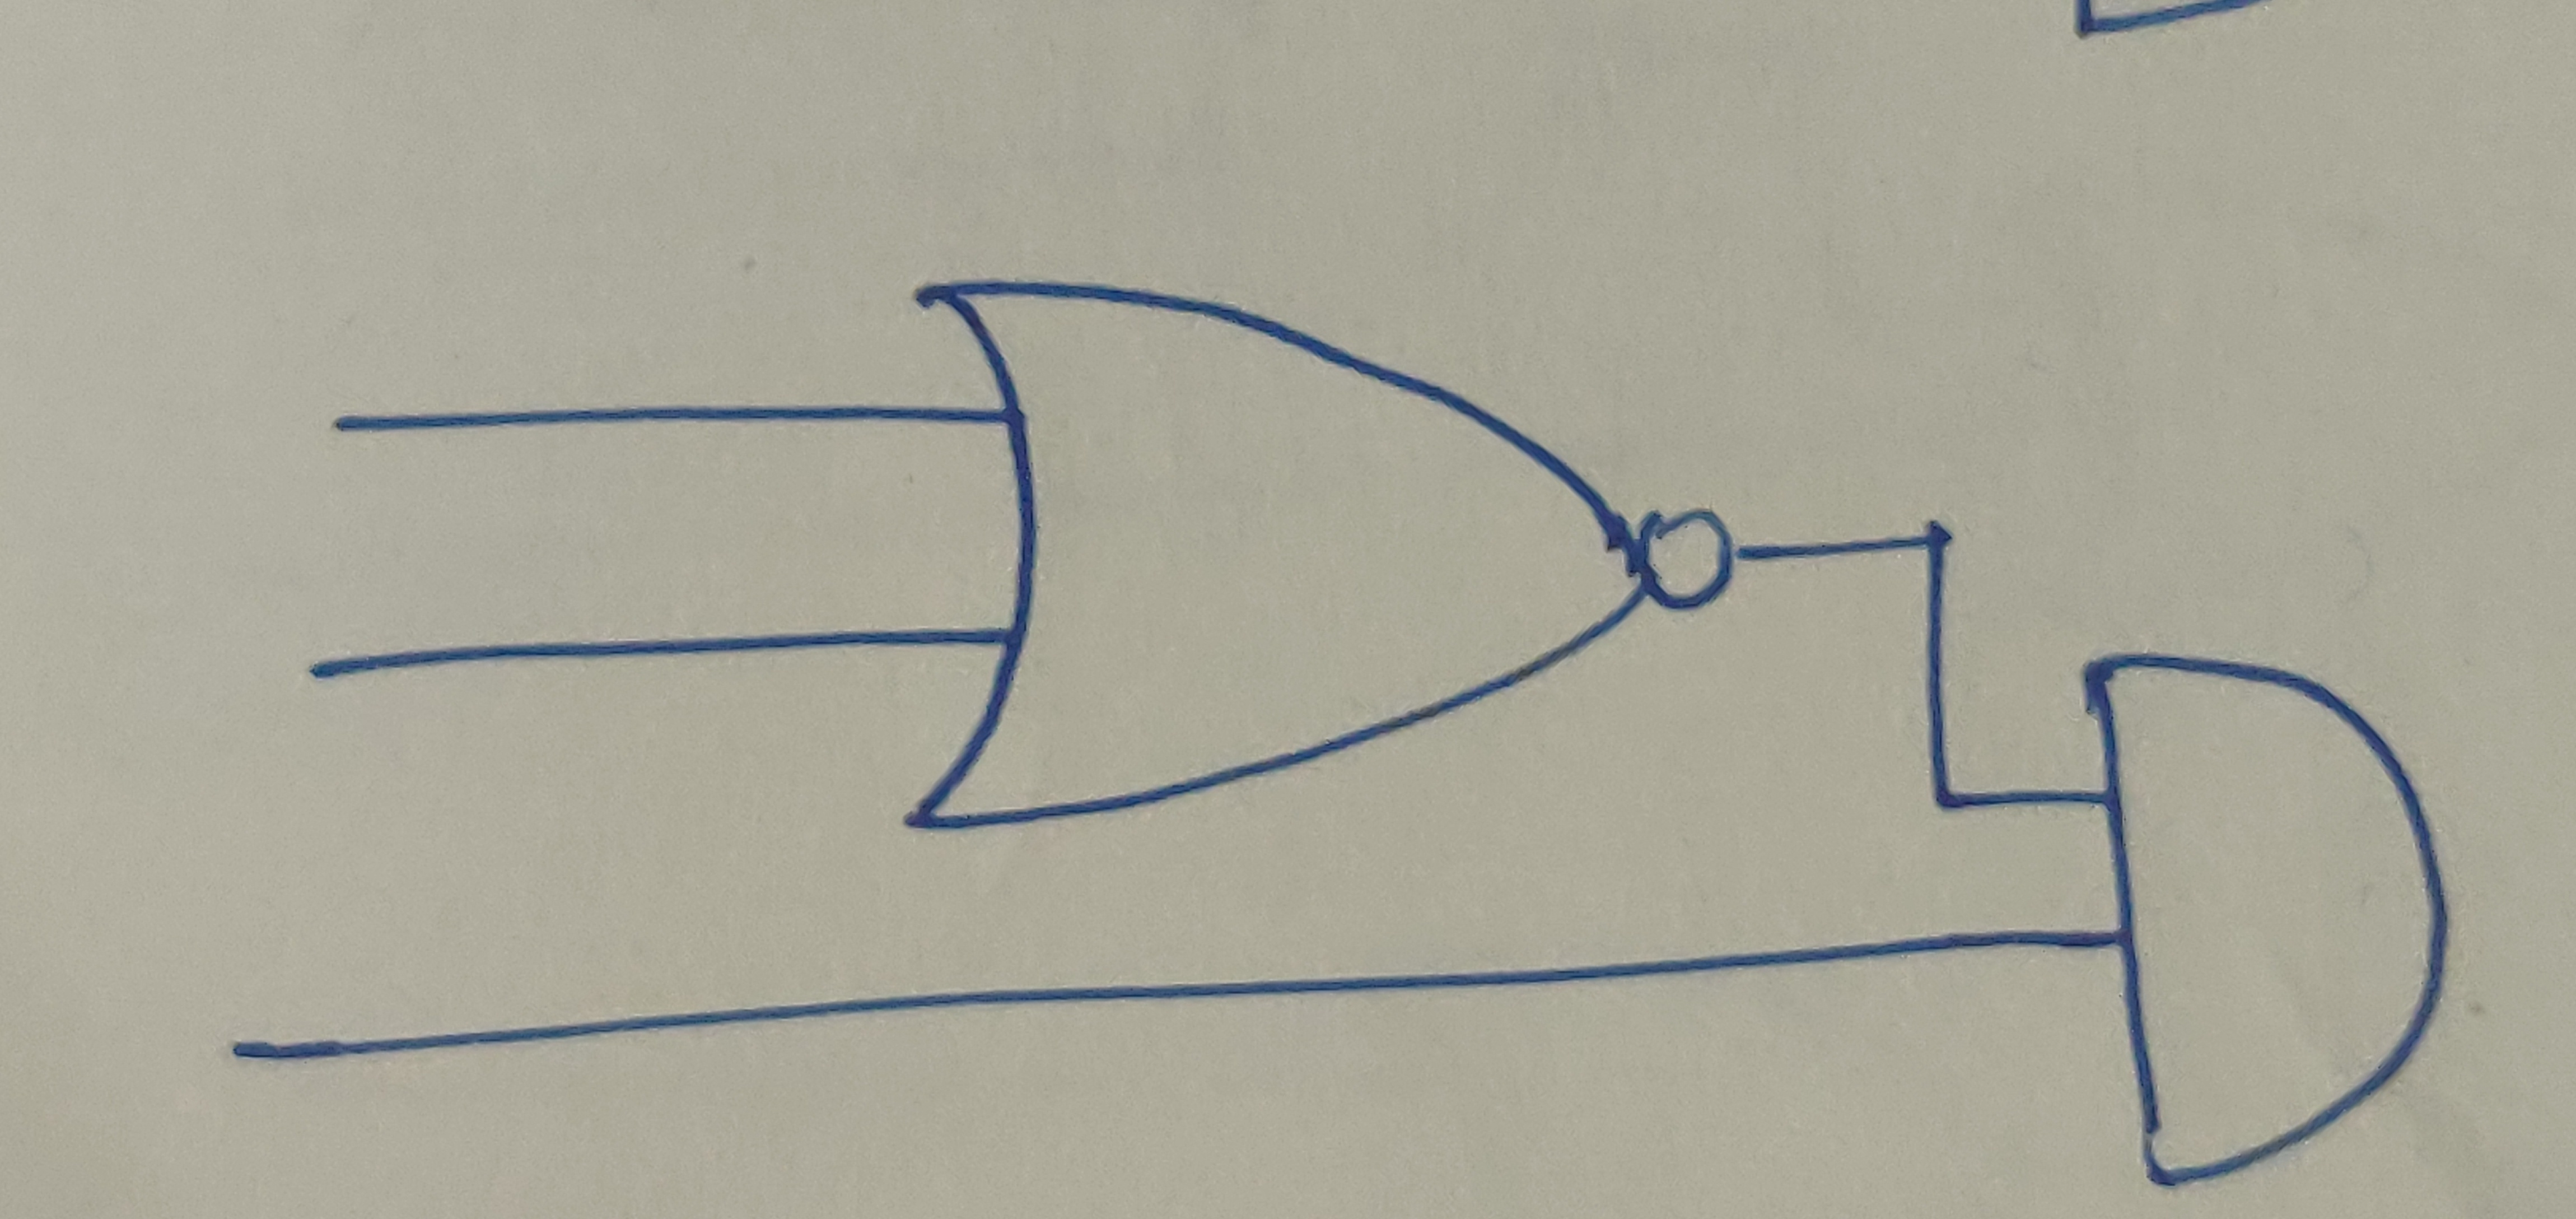and: (2075, 652, 2458, 1199)
not: (1640, 498, 1738, 619)
or: (918, 279, 1653, 833)
